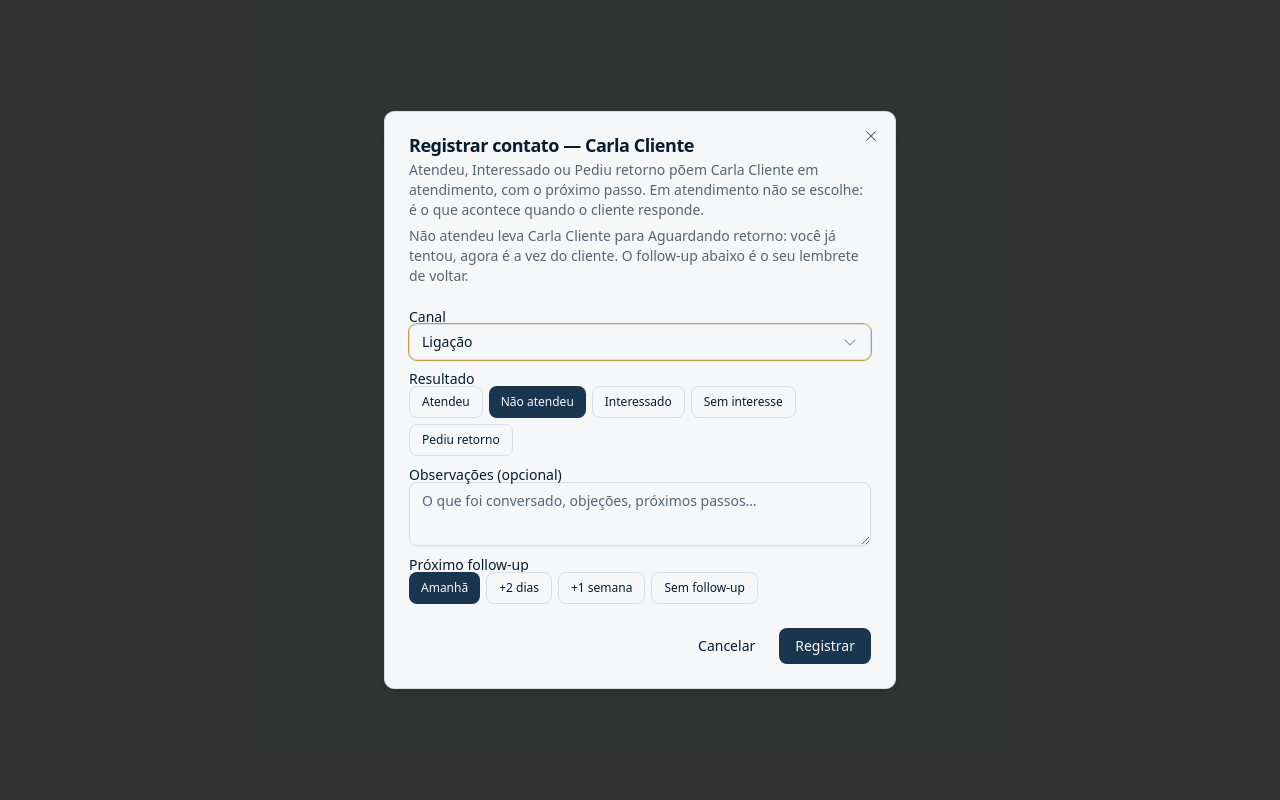
Scenario: RegistrarContatoDialog: não atendeu › em lead que ninguém tentou avisa que vai para Aguardando retorno; com resposta, o aviso some
Expected: the text with test id "contato-aguarda-retorno" shows "Carla Cliente para Aguardando retorno", [409,226,871,286]
Expected: the text "Próximo follow-up" is shown, [409,555,529,574]
Click the radio button labelled "Atendeu".
click(446, 402)  # box [409,386,483,418]
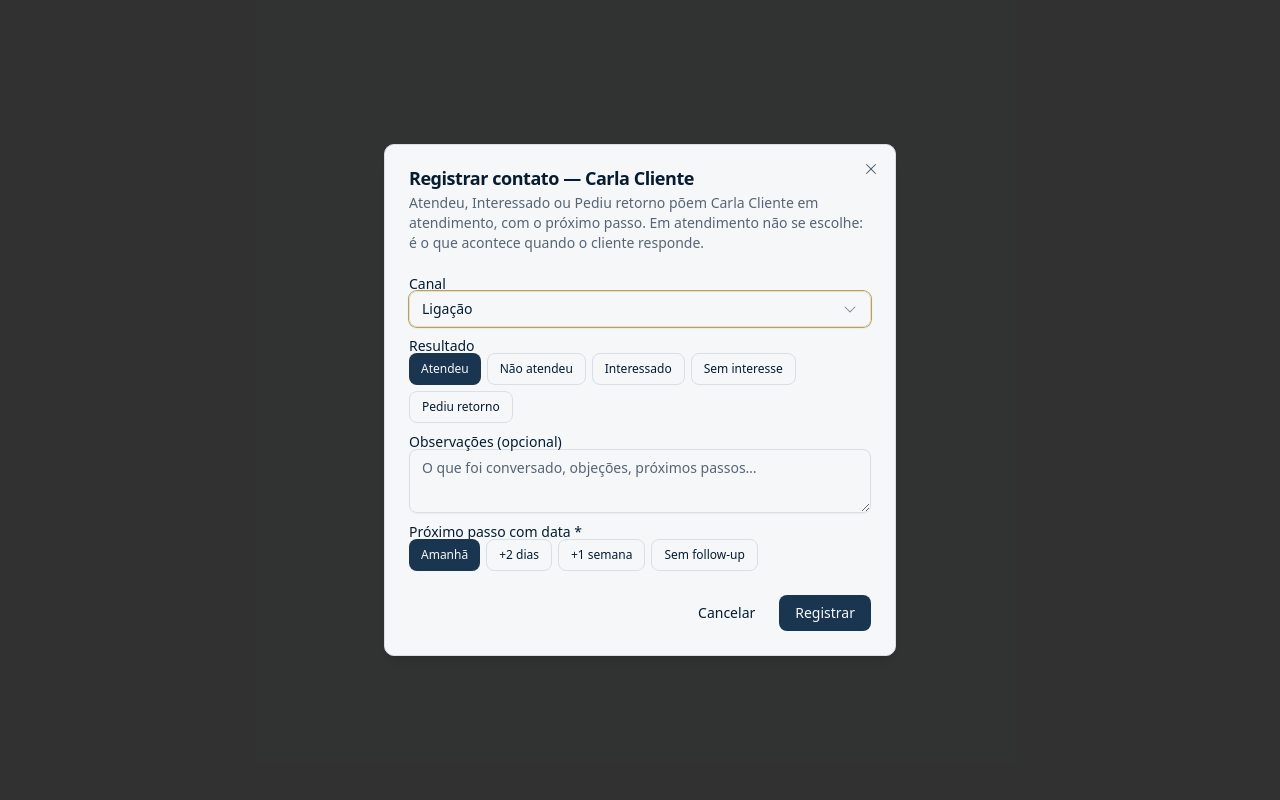
Expected: the text with test id "contato-consequencia" is shown, [409,193,871,253]
Now the text with test id "contato-aguarda-retorno" is gone
